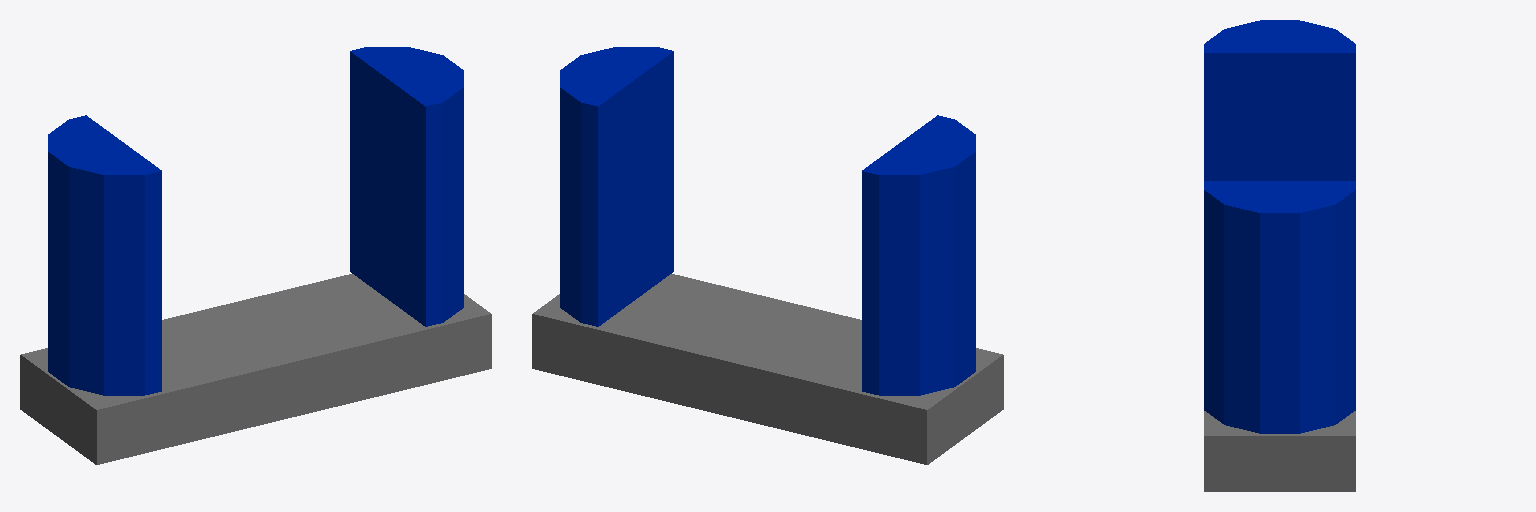
URDF robot description (blgripper):
<?xml version="1.0"?>
<robot name="blgripper">
  <link name="gripperbase">
    <visual>
    <origin xyz="0 0 0" rpy="1.5708 0 0" />
        <geometry>
            <mesh filename="finBase.STL" scale="0.001 0.001 0.001"/>  
        </geometry>
        <material name="black">
            <color rgba="0.50 0.5 0.5 5.0"/>
        </material>
    </visual>
    <collision>
    <origin xyz="0 0 0" rpy="1.5708 0 0" />
        <geometry>
             <mesh filename="finBase.STL" scale="0.001 0.001 0.001"/>  
        </geometry>
    </collision> 

    <inertial>
      <mass value="0.1"/>
      <inertia ixx="0.001" ixy="0.0" ixz="0.0" iyy="0.001" iyz="0.0" izz="0.001"/>
    </inertial>
  </link>


  <joint name="jl" type="prismatic">
        <axis xyz="1 0 0" /> 
        <limit effort="300.0" velocity="0.012" lower="0.0" upper="0.0495"/>
        <origin xyz="0 0 0" rpy="0 0 0" />
  <parent link="gripperbase" />
  <child link="linkl" />

  </joint>

    <link name="linkl">
   <contact>
      <friction_anchor/>
      <stiffness value="30000.0"/>
      <damping value="1000.0"/>
      <spinning_friction value="1.1"/>
      <lateral_friction value="10.0"/>
    </contact>
    <visual>
    <origin xyz="0 0 0.001" rpy="1.5708 0 0" />
        <geometry>
            <mesh filename="finLeft.STL" scale="0.001 0.001 0.001"/>  
        </geometry>
        <material name="blue">
            <color rgba="0.0 0.2 0.7 5.0"/>
        </material>     
    </visual>
    <collision>
    <origin xyz="0 0 0.001" rpy="1.5708 0 0" />
        <geometry>
            <mesh filename="finLeft.STL" scale="0.001 0.001 0.001"/>  
        </geometry>
    </collision>
    <inertial>
      <mass value="0.0025"/>
      <inertia ixx="0.1" ixy="0.0" ixz="0.0" iyy="0.1" iyz="0.0" izz="0.1"/>
    </inertial>

  </link>


  <joint name="jr" type="prismatic">
        <axis xyz="1 0 0" /> 
        <limit effort="300.0" velocity="0.012" lower="-0.0495" upper="0.0"/>
        <origin xyz="0 0 0" rpy="0 0 0" />
  <parent link="gripperbase" />
  <child link="linkr" />

  </joint>

    <link name="linkr">
   <contact>
      <friction_anchor/>
      <stiffness value="30000.0"/>
      <damping value="1000.0"/>
      <spinning_friction value="1.1"/>
      <lateral_friction value="10.0"/>
    </contact>
    <visual>
    <origin xyz="0 0 0.001" rpy="1.5708 0 0" />
        <geometry>
            <mesh filename="finRight.STL" scale="0.001 0.001 0.001"/>  
        </geometry>
        <material name="blue">
            <color rgba="0.0 0.2 0.7 5.0"/>
        </material>
    </visual>
    <collision>
    <origin xyz="0 0 0.001" rpy="1.5708 0 0" />
        <geometry>
            <mesh filename="finRight.STL" scale="0.001 0.001 0.001"/>  
        </geometry>
    </collision>
    <inertial>
    <mass value="0.0025"/>
      <inertia ixx="0.1" ixy="0.0" ixz="0.0" iyy="0.1" iyz="0.0" izz="0.1"/>
    </inertial>
     
  </link>
</robot> 

--- Render facts (derived) ---
The picture shows the robot from 3 angles, left to right: view 1: azimuth 30°, elevation 25°; view 2: azimuth 150°, elevation 25°; view 3: azimuth 270°, elevation 25°; orthographic projection.
Model blgripper with 3 links and 2 joints (2 prismatic), rooted at gripperbase, posed every joint at zero.
Visible links, largest first — view 1: gripperbase, linkl, linkr; view 2: gripperbase, linkl, linkr; view 3: linkr, linkl, gripperbase.
Link boxes in pixels (x1=…): gripperbase: x1=20, y1=274, x2=491, y2=464; linkl: x1=48, y1=115, x2=161, y2=395; linkr: x1=350, y1=47, x2=463, y2=326; gripperbase: x1=532, y1=274, x2=1003, y2=464; linkl: x1=862, y1=115, x2=975, y2=395; linkr: x1=560, y1=47, x2=673, y2=326; linkr: x1=1204, y1=181, x2=1355, y2=433; linkl: x1=1204, y1=20, x2=1355, y2=180; gripperbase: x1=1204, y1=411, x2=1355, y2=491.
Size in the robot's own frame: 0.15 by 0.05 by 0.101 metres.
3 mesh visuals loaded from 3 distinct referenced files (3 binary STL).
